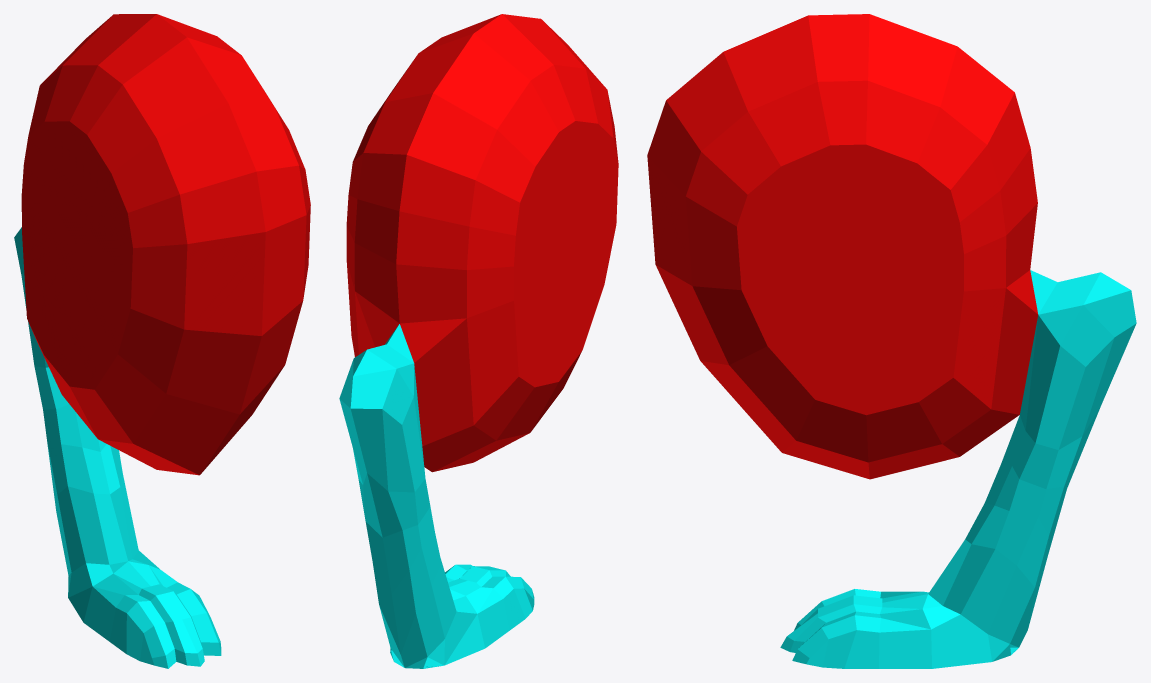
Rendered from Mo_Snat_Leg.fbx.
3 views of the same model, side by side, from view 1: azimuth 30°, elevation 25°; view 2: azimuth 150°, elevation 25°; view 3: azimuth 270°, elevation 25° (orthographic). The views are drawn at different scales.
Parts seen in each view (by area): view 1: Leg.001; view 2: Leg.001; view 3: Leg.001.
Part boxes in pixels (bbox=[...]): Leg.001: bbox=[14, 14, 310, 668]; Leg.001: bbox=[339, 14, 618, 668]; Leg.001: bbox=[647, 14, 1136, 668].
Bounding box in the file's own units: 115 × 384 × 269.
